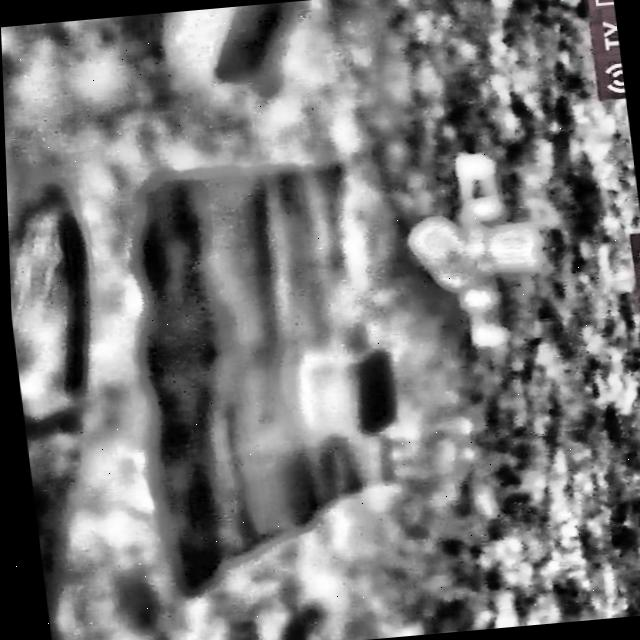drone: (393, 146, 549, 354)
